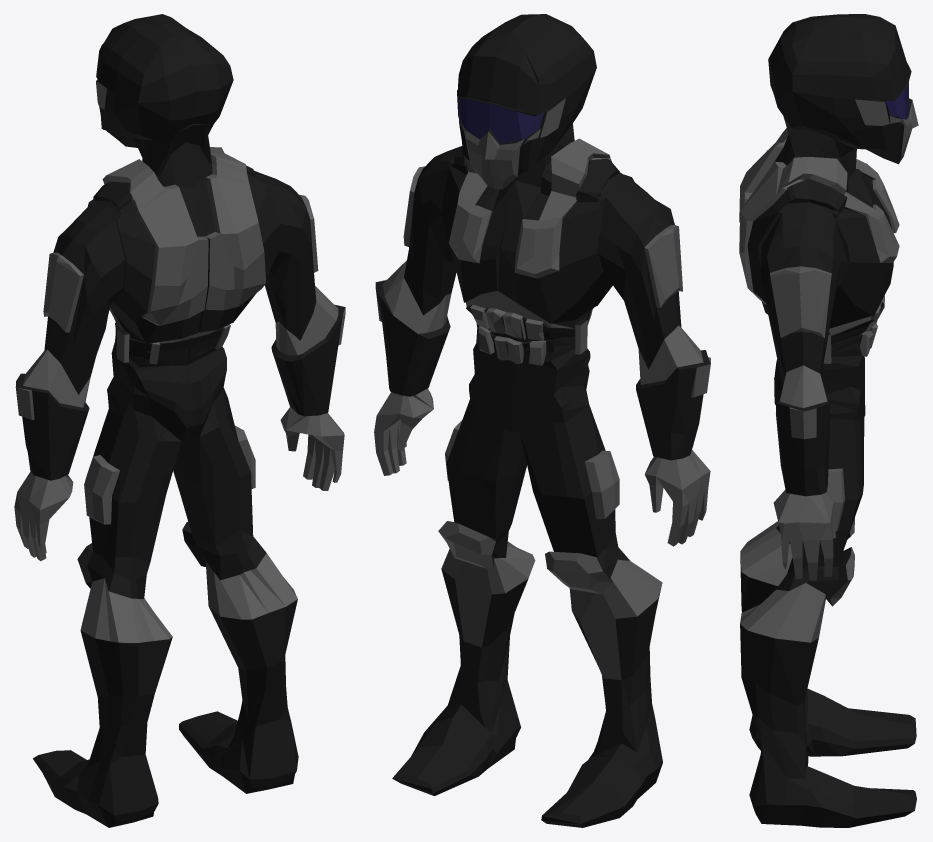
Rendered from new player.fbx.
The picture shows the model from 3 angles, left to right: view 1: azimuth 30°, elevation 25°; view 2: azimuth 150°, elevation 25°; view 3: azimuth 270°, elevation 25°; orthographic projection.
Parts seen in each view (by area): view 1: Player; view 2: Player; view 3: Player.
Part boxes in pixels (left/top/right/bottom): Player: left=14, top=14, right=345, bottom=827; Player: left=374, top=14, right=710, bottom=827; Player: left=739, top=14, right=918, bottom=827.
Size of the model in its own units: 173 by 380 by 80.93.
